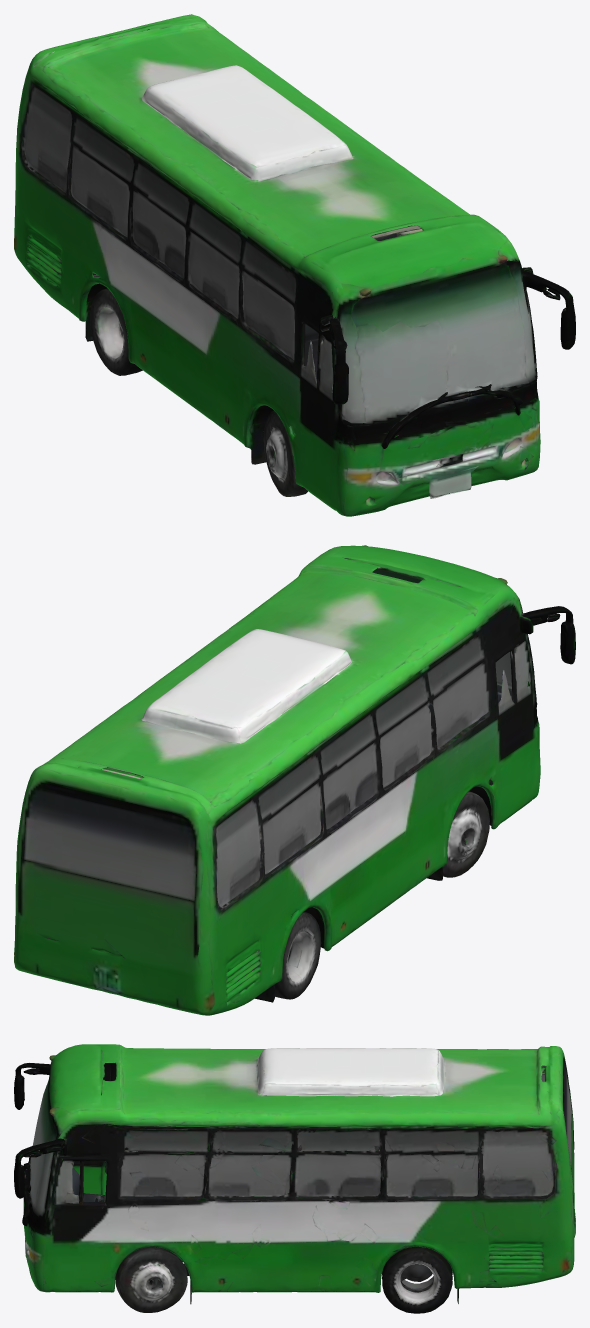
Rendered from roadside-landmark.glb.
The picture shows the model from 3 angles, top to bottom: view 1: azimuth 30°, elevation 25°; view 2: azimuth 150°, elevation 25°; view 3: azimuth 270°, elevation 25°; orthographic projection. The views are drawn at different scales.
Parts seen in each view (by area): view 1: world; view 2: world; view 3: world.
Boxes of the visible parts, x1,y1,x2,y2 form: world: (14,14,575,516); world: (14,545,575,1015); world: (14,1044,575,1313).
Bounding box in the file's own units: 0.3986 × 0.4217 × 1.
1 material, 1 textured.
